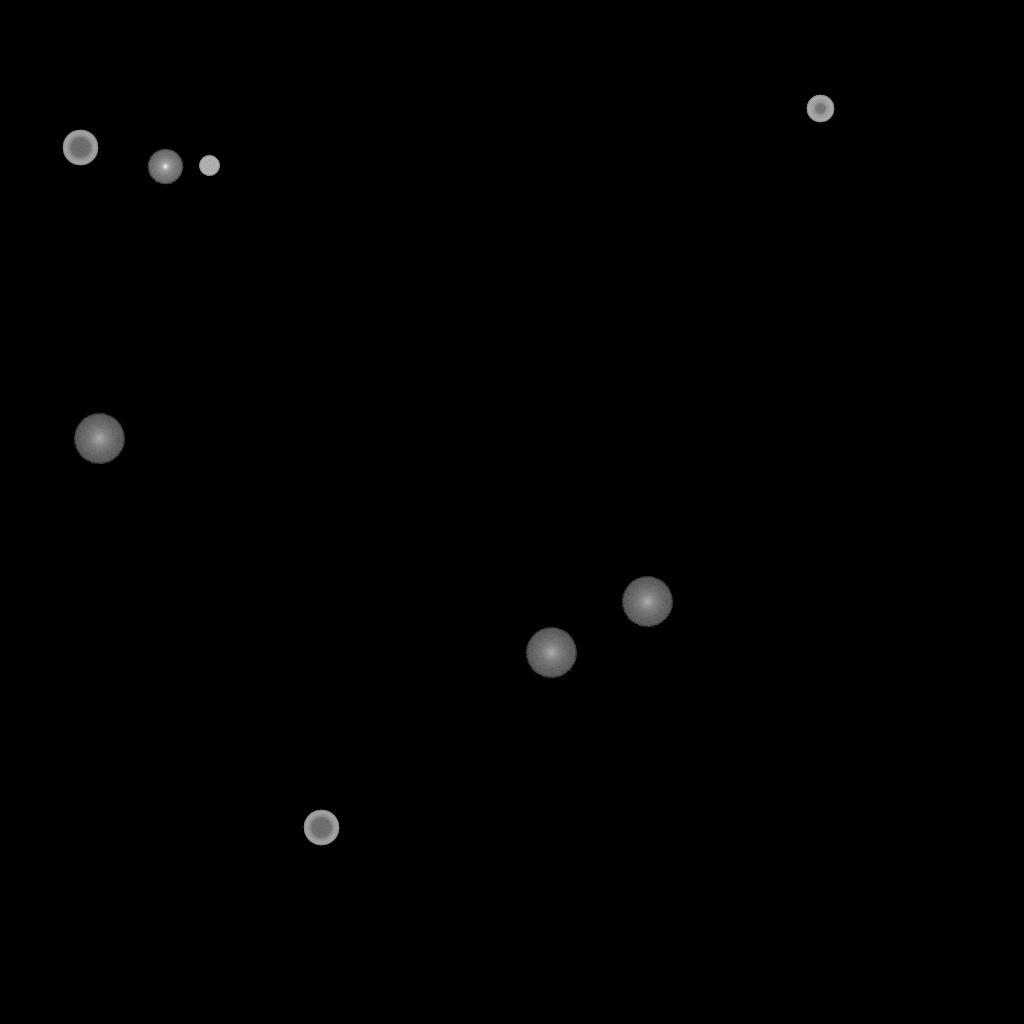depth:-40: (199, 156, 219, 176)
depth:-50: (806, 95, 834, 123)
depth:-60: (62, 130, 98, 166), (303, 810, 339, 846)
depth:0: (147, 149, 183, 185)
depth:20: (73, 414, 125, 464), (621, 577, 673, 627), (525, 628, 577, 678)
